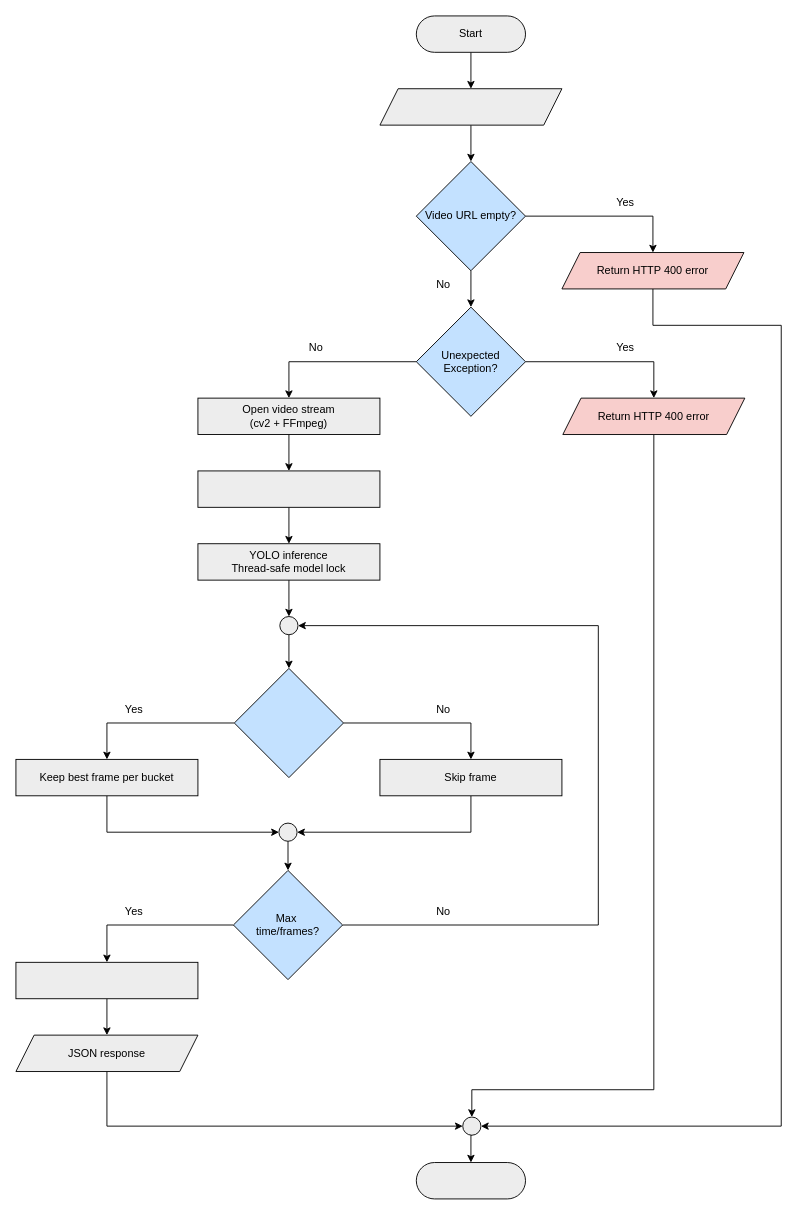
The diagram is 804 pixels wide and 1215 high, and some of its shapes have lost their labels. Here are the shapes that lost their labels. From the top down, the centre of each, then its label:
the point at 470,106: Client POST /detect endpoint (FASTAPI)
the point at 288,488: Frame sampling interval Time bucket logic
the point at 288,722: Person Detected?
the point at 106,980: Select top-N frames
the point at 470,1180: End
